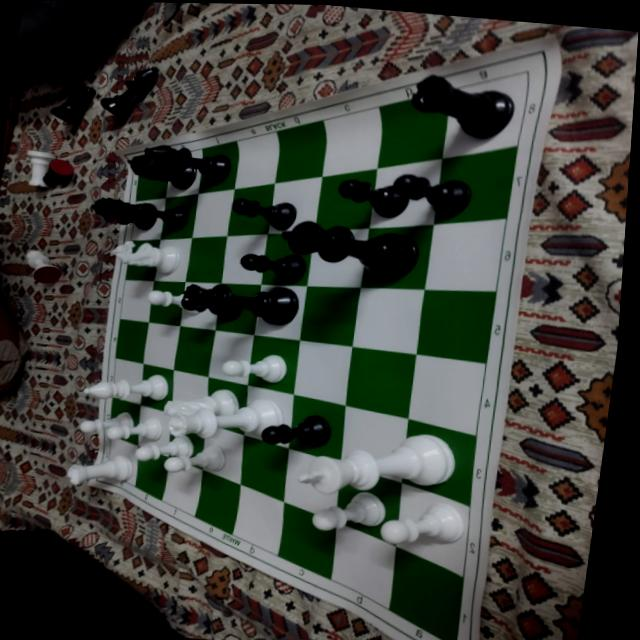board: (84, 40, 549, 640)
square: (441, 71, 527, 159), (395, 482, 469, 578), (388, 546, 463, 640), (400, 419, 476, 507), (432, 147, 516, 225), (407, 354, 484, 436), (423, 218, 505, 291), (415, 290, 495, 364), (376, 90, 450, 168), (329, 521, 394, 609), (334, 465, 400, 546), (344, 346, 415, 419), (368, 158, 442, 228), (339, 406, 407, 482), (351, 288, 424, 354), (360, 225, 432, 290), (276, 502, 335, 579), (282, 448, 340, 522), (320, 107, 378, 177), (288, 395, 345, 464), (314, 168, 376, 231), (293, 340, 352, 406), (299, 285, 359, 347), (231, 484, 283, 555), (306, 228, 368, 287), (242, 385, 293, 448), (239, 436, 288, 501), (246, 335, 299, 395), (266, 176, 320, 234), (260, 231, 314, 286), (253, 284, 306, 340), (274, 120, 321, 183), (193, 470, 239, 534), (226, 182, 274, 236), (201, 424, 243, 485), (207, 330, 253, 385), (233, 131, 276, 189), (160, 457, 201, 517), (214, 283, 260, 335), (205, 377, 246, 435), (220, 234, 266, 285), (172, 326, 214, 377), (167, 414, 205, 470), (191, 189, 233, 238), (198, 140, 235, 194), (170, 370, 207, 424), (184, 236, 226, 283), (179, 282, 220, 330), (133, 445, 168, 500), (136, 405, 171, 458), (164, 149, 201, 198), (142, 322, 179, 370), (159, 193, 197, 239), (152, 238, 191, 282), (147, 281, 184, 326), (139, 364, 172, 414), (106, 435, 137, 487), (108, 397, 140, 446), (135, 155, 169, 201), (130, 198, 165, 241), (111, 358, 143, 405), (114, 319, 148, 363), (124, 239, 159, 281), (119, 280, 153, 322)
